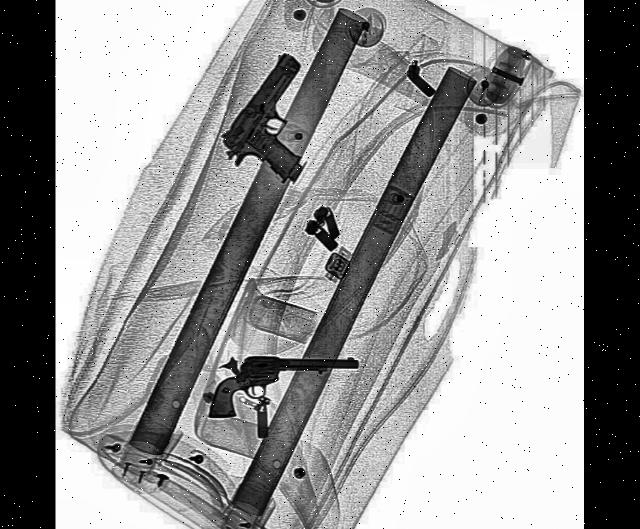Gun: (215, 43, 334, 205), (207, 352, 358, 416)
